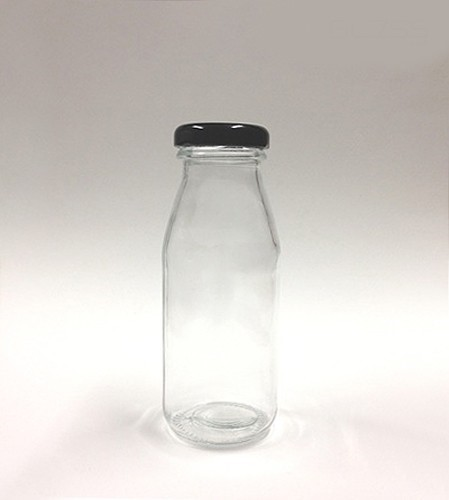glass_bottleww: (156, 116, 285, 453)
